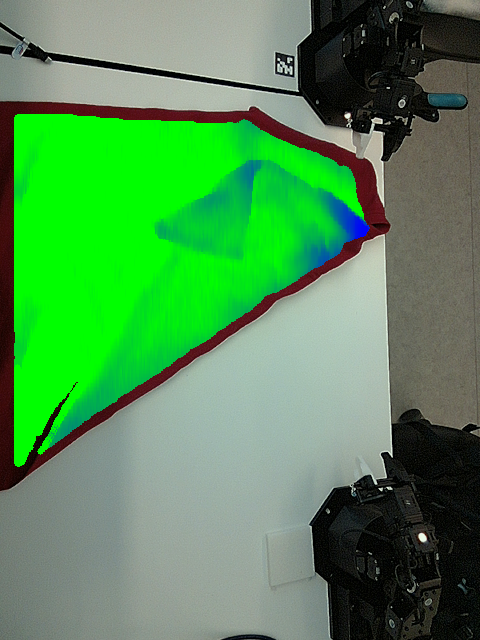V: (211, 232, 253, 274)
